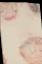plaque psoriasis: (0, 0, 23, 49), (6, 33, 42, 64), (28, 2, 40, 14), (1, 46, 9, 64)
